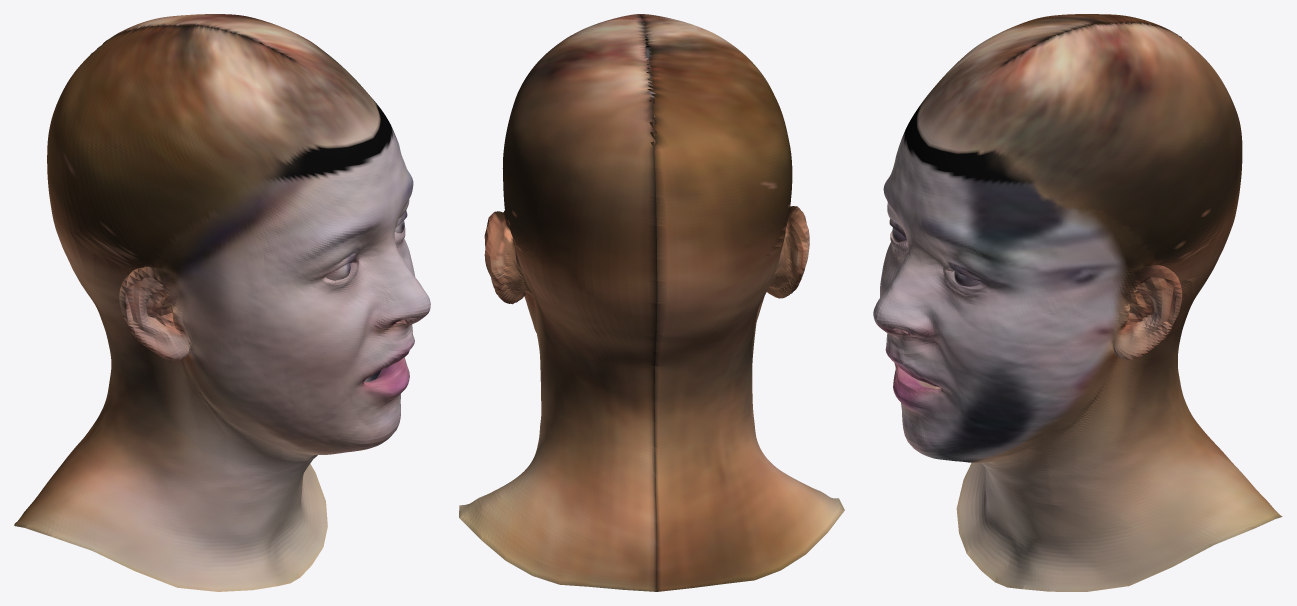
The model's file is cheo1_frame0006_detail.obj.
The picture shows the model from 3 angles, left to right: view 1: azimuth 30°, elevation 25°; view 2: azimuth 150°, elevation 25°; view 3: azimuth 270°, elevation 25°; orthographic projection.
Size of the model in its own units: 0.2147 by 0.321 by 0.2237.
